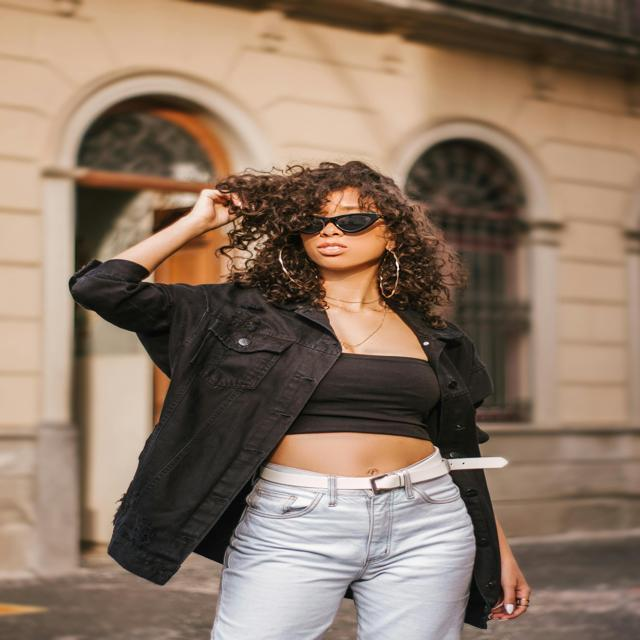2_gafas: (295, 211, 385, 235)
